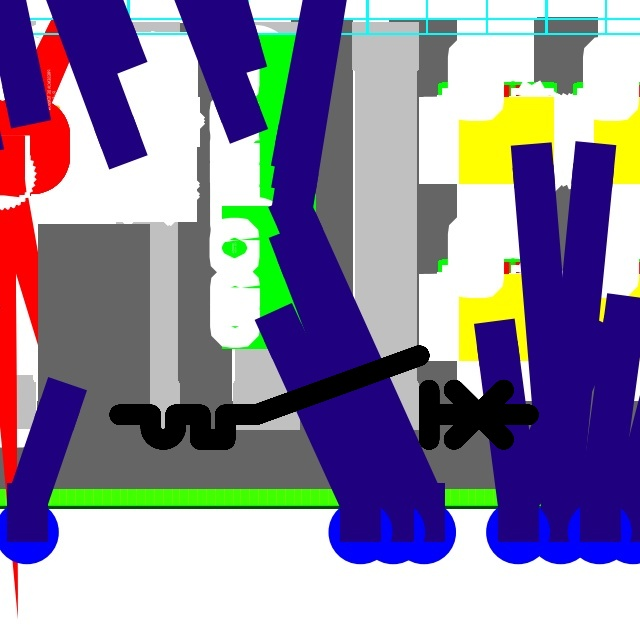interruptor_termomagnetico: (109, 345, 539, 450)
